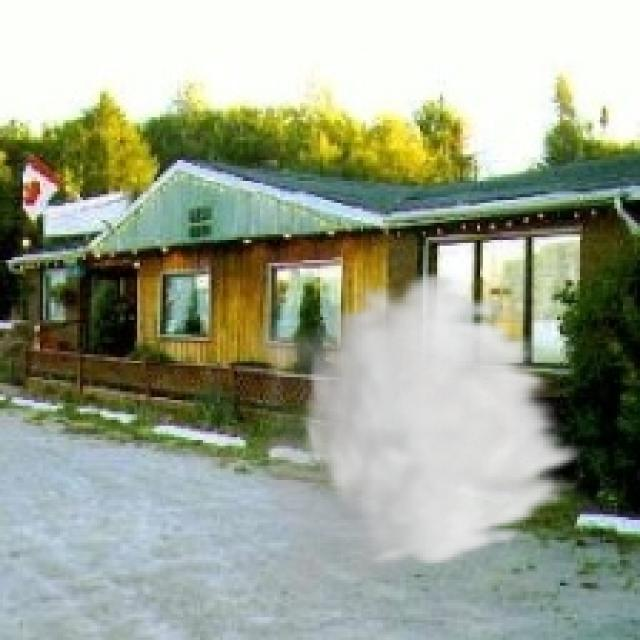smoke: (234, 268, 589, 632)
